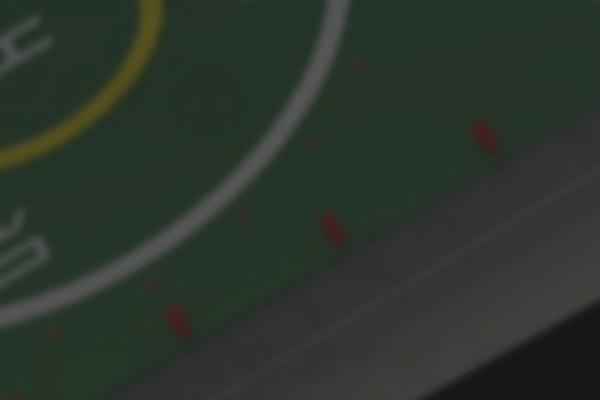Apron: (1, 1, 171, 162)
